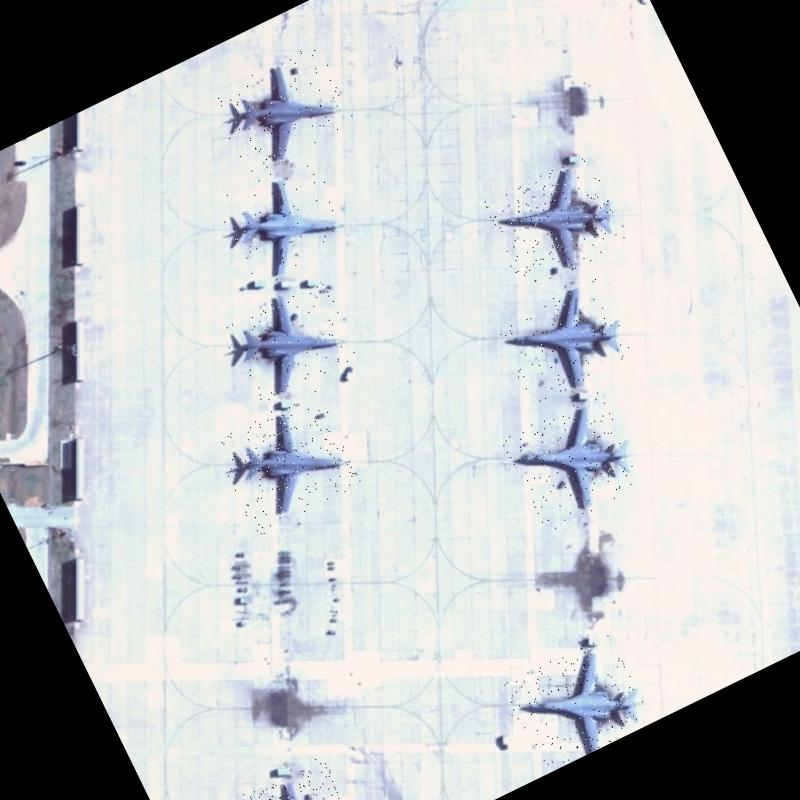A10: (208, 388, 364, 538), (480, 151, 631, 294), (501, 632, 653, 774), (500, 390, 644, 532), (207, 42, 356, 176), (213, 152, 354, 288), (493, 275, 638, 407), (217, 277, 362, 407), (216, 754, 372, 800)
